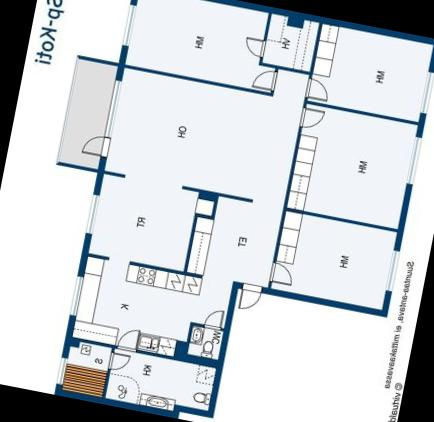door: (78, 129, 114, 161), (297, 103, 329, 133), (237, 280, 264, 314), (249, 66, 280, 94), (302, 76, 332, 104), (115, 326, 143, 356), (268, 260, 296, 289), (104, 348, 134, 374), (241, 35, 270, 61), (202, 306, 226, 330)
window: (102, 75, 124, 140), (404, 132, 426, 189), (382, 244, 404, 296), (82, 188, 104, 238), (66, 270, 88, 320), (120, 1, 139, 52), (418, 67, 434, 118), (53, 353, 70, 389)
